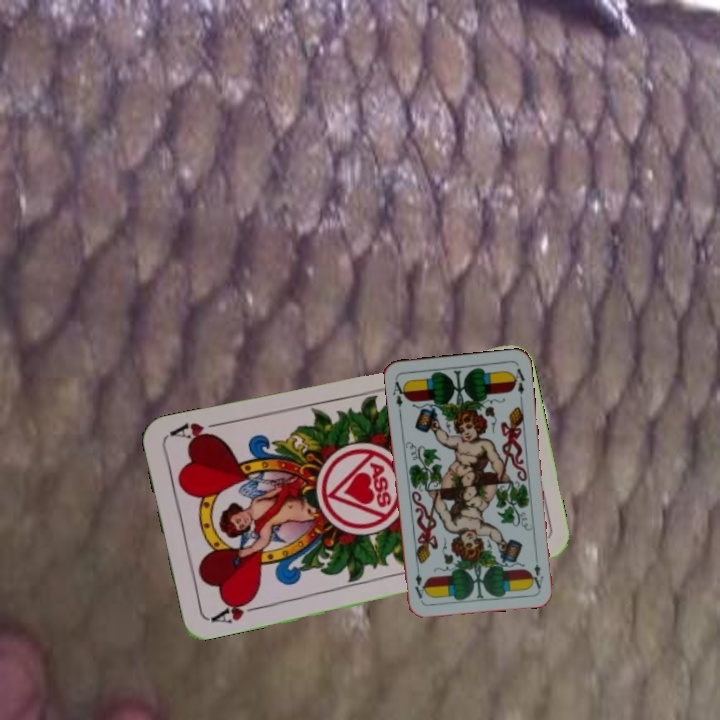EA: (528, 551, 546, 591), (389, 375, 409, 410)
HA: (204, 593, 263, 627)
